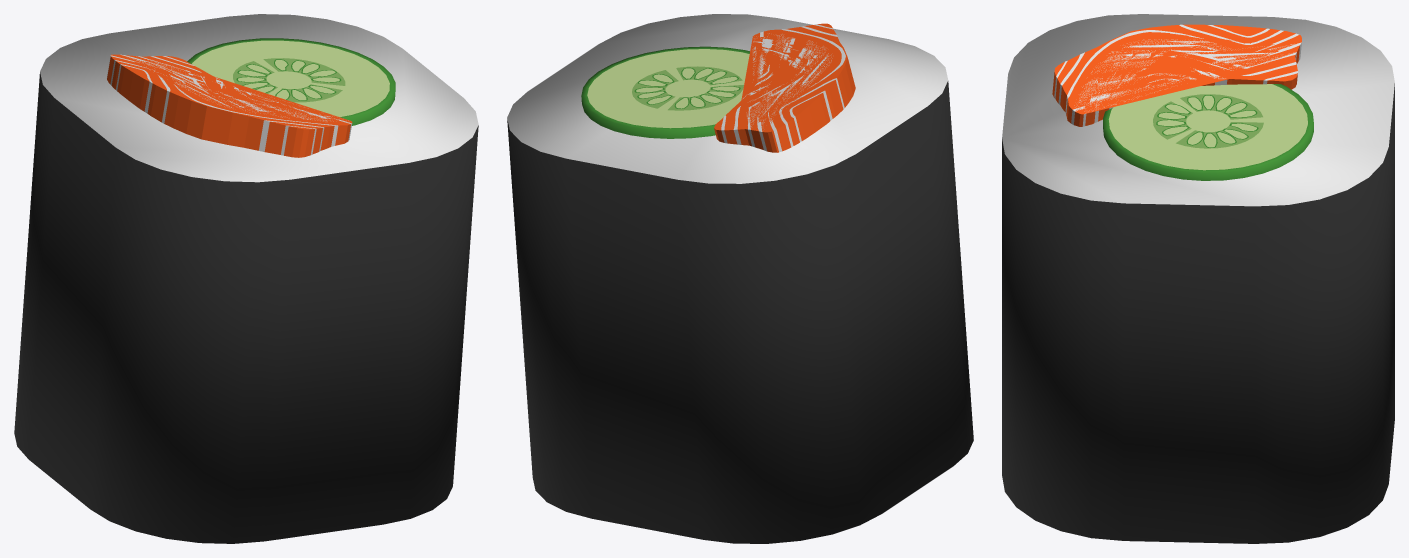
The model's file is Sushi_04.fbx.
3 renders of one model, left to right at view 1: azimuth 30°, elevation 25°; view 2: azimuth 150°, elevation 25°; view 3: azimuth 270°, elevation 25°, orthographic.
Parts seen in each view (by area): view 1: Cube.013; view 2: Cube.013; view 3: Cube.013.
Boxes of the visible parts, left/top/right/bottom form: Cube.013: left=14, top=14, right=478, bottom=543; Cube.013: left=507, top=14, right=973, bottom=543; Cube.013: left=1002, top=14, right=1394, bottom=543.
Bounding box in the file's own units: 183 × 192 × 171.
